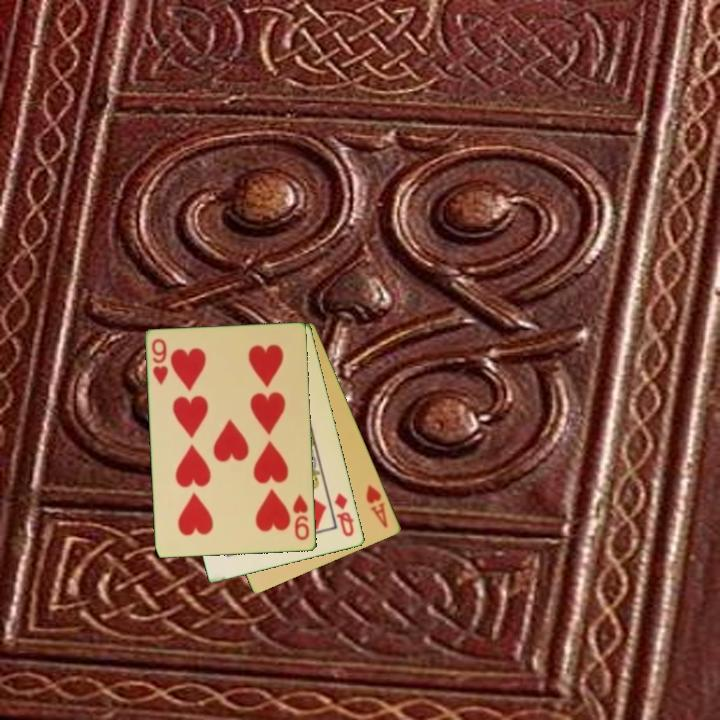9h: (148, 335, 171, 388), (290, 492, 313, 543)
Ah: (363, 481, 391, 531)
Qd: (331, 489, 357, 540)
